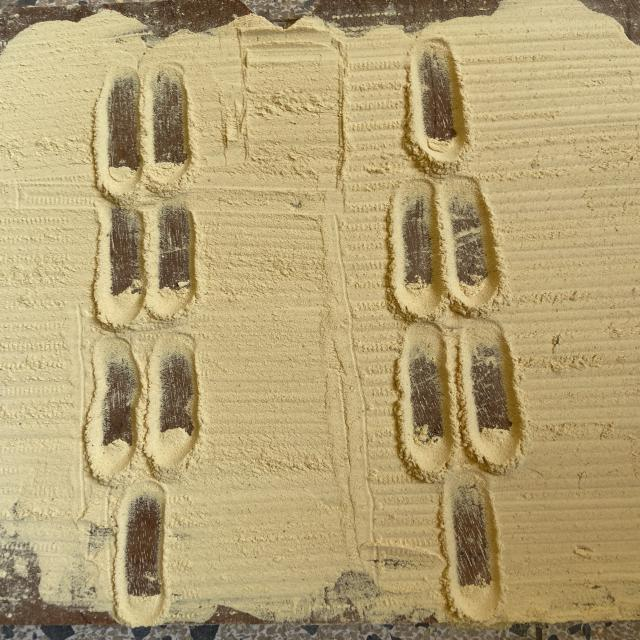double: (393, 324, 530, 467), (81, 328, 205, 480), (382, 175, 510, 321), (90, 62, 196, 199), (91, 202, 199, 326)
single: (439, 469, 505, 621), (404, 35, 472, 176), (111, 480, 171, 624)
